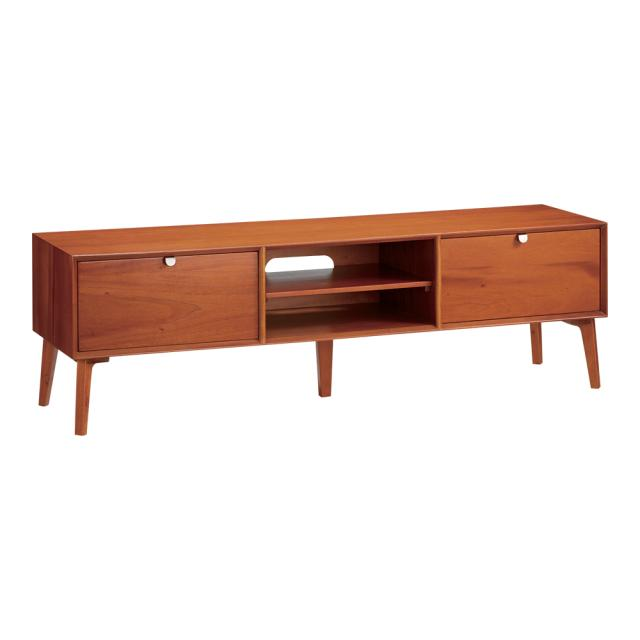vintage shelf: (25, 200, 618, 440)
